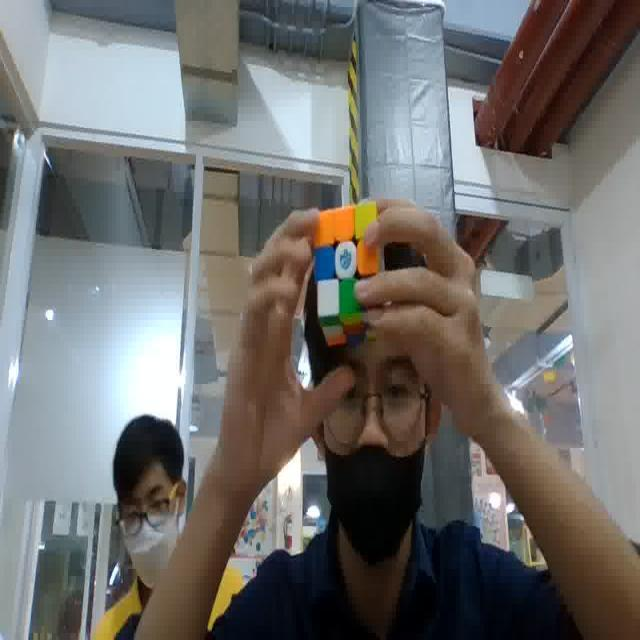Rub: (314, 196, 388, 344)
